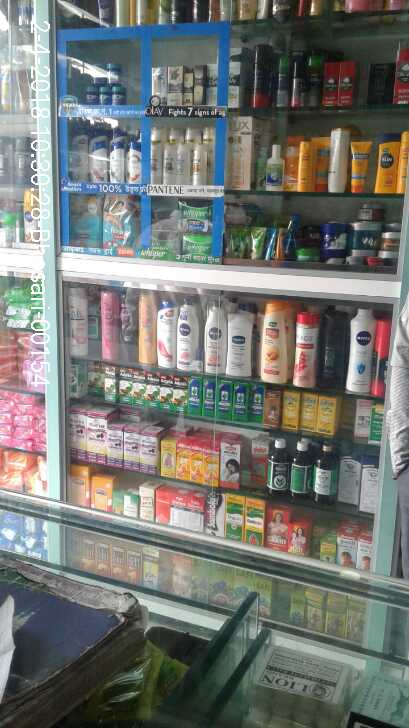vicks: (85, 62, 127, 105)
